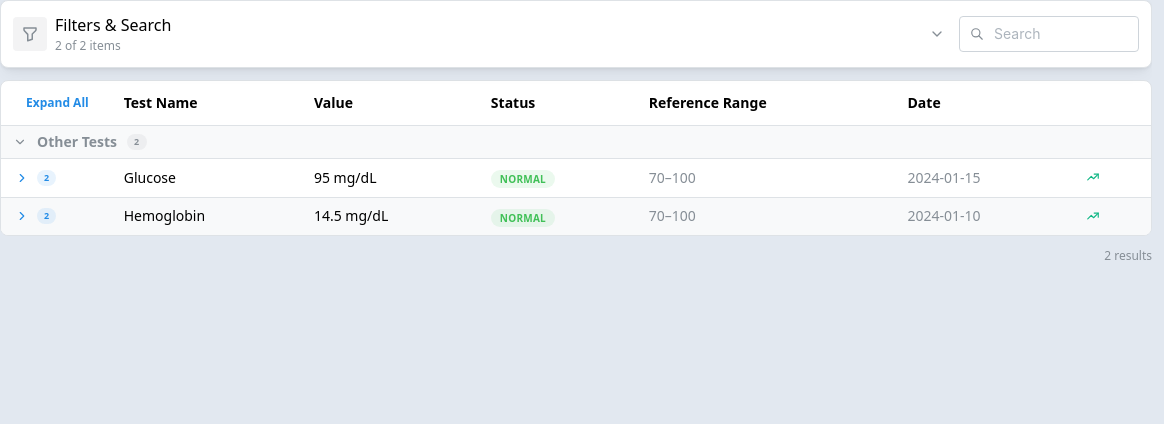
LabResultsComponentTable › expands all tests via Expand All button
Click the button with test id "expand-all-btn".
click(57, 103)  # box [11,88,104,118]
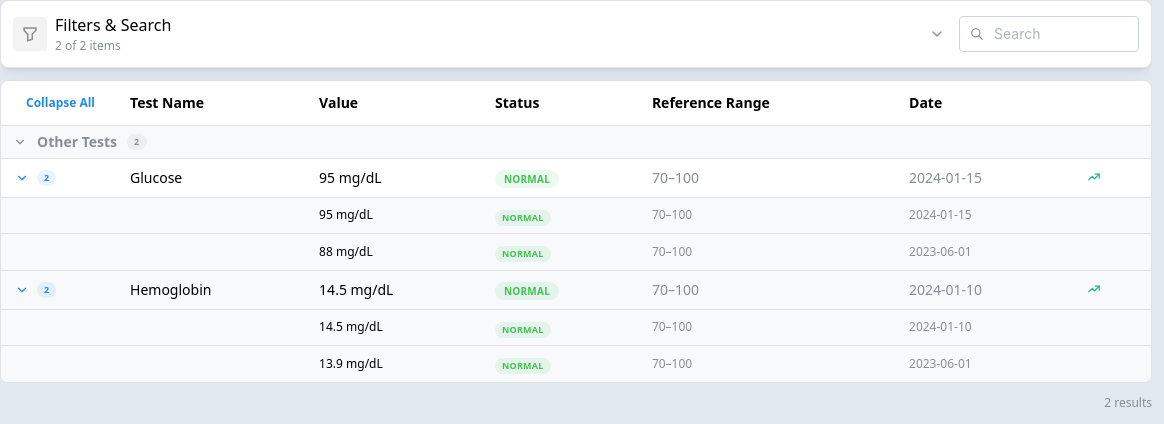
Now the row with test id "history-row-1" is shown, box [1,197,1151,234]
Now the row with test id "history-row-2" is shown, box [1,234,1151,270]
Now the row with test id "history-row-3" is shown, box [1,309,1151,346]
